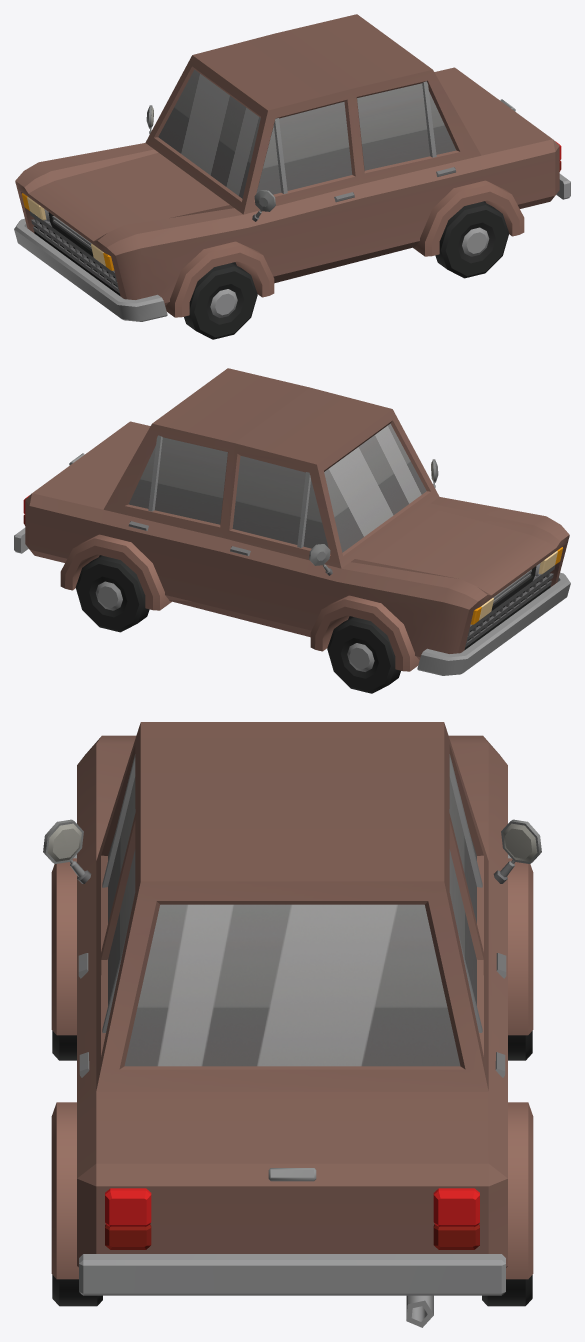
The model's file is Car_5_D.gltf.
The picture shows the model from 3 angles, top to bottom: view 1: azimuth 30°, elevation 25°; view 2: azimuth 150°, elevation 25°; view 3: azimuth 270°, elevation 25°; orthographic projection. The views are drawn at different scales.
Visible parts, largest first — view 1: Car_5_D, RR, FL; view 2: Car_5_D, RL, FR; view 3: Car_5_D, RR, RL.
Part boxes in pixels (box(x1,y1,x2,y2)): Car_5_D: box(14, 14, 570, 321); RR: box(435, 201, 509, 278); FL: box(184, 263, 257, 339); Car_5_D: box(14, 368, 570, 675); RL: box(75, 555, 149, 632); FR: box(327, 617, 400, 693); Car_5_D: box(43, 722, 541, 1327); RR: box(52, 1275, 102, 1306); RL: box(482, 1275, 532, 1306).
Bounding box in the file's own units: 3.55 × 1.45 × 1.67.
4 materials, 4 textured.
